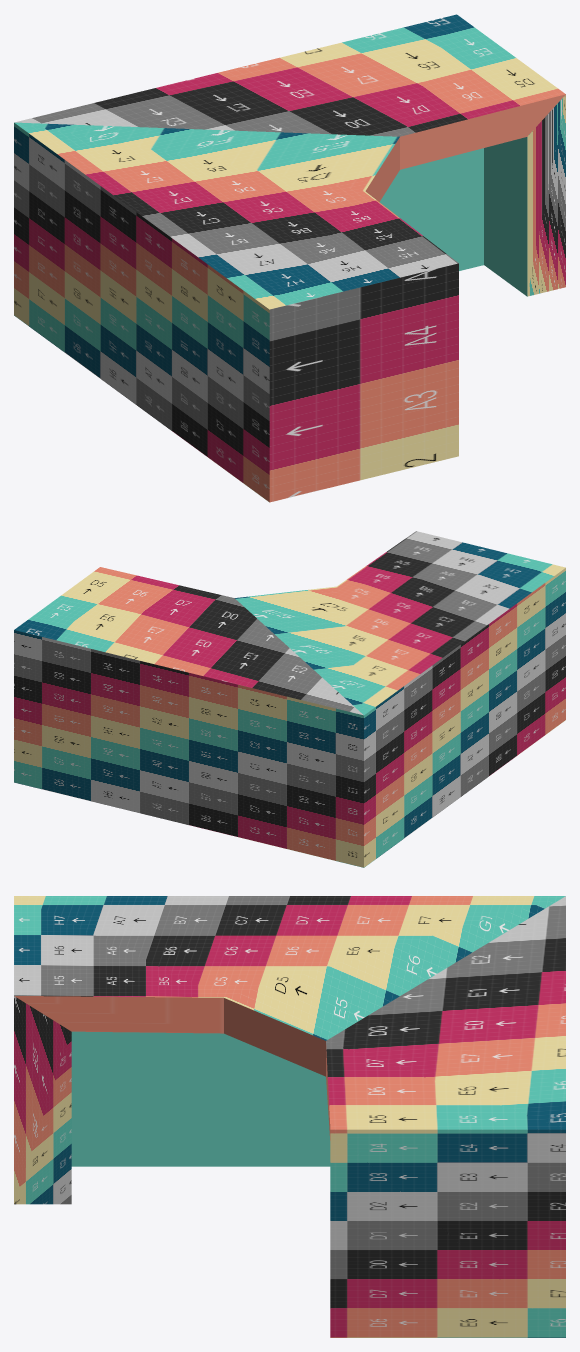
The model's file is desk.glb.
3 renders of one model, top to bottom at view 1: azimuth 30°, elevation 25°; view 2: azimuth 150°, elevation 25°; view 3: azimuth 270°, elevation 25°, orthographic. The views are drawn at different scales.
Visible parts, largest first — view 1: col_desk; view 2: col_desk; view 3: col_desk.
Part boxes in pixels (x1,y1,x2,y2): col_desk: (14,14,565,502); col_desk: (14,531,565,867); col_desk: (14,896,565,1337).
Bounding box in the file's own units: 2.51 × 1.04 × 2.51.
Materials: 1 (1 with a texture image).
